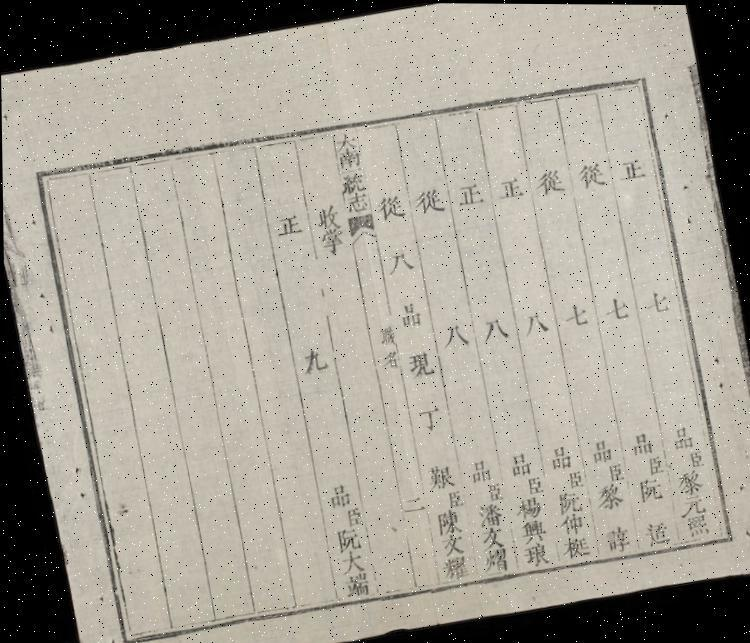c: (412, 183, 446, 215), (532, 164, 567, 195), (422, 459, 456, 490), (638, 514, 670, 546), (556, 531, 592, 559), (600, 521, 632, 552), (374, 191, 407, 221), (511, 492, 545, 521), (666, 420, 698, 450), (632, 472, 664, 502), (438, 318, 470, 348), (592, 479, 624, 509), (404, 348, 434, 380), (575, 158, 607, 188), (477, 314, 510, 343), (614, 152, 648, 180), (338, 569, 372, 597), (436, 552, 470, 580), (298, 344, 328, 375), (515, 516, 548, 544), (640, 284, 670, 314), (586, 434, 616, 464), (317, 226, 347, 256), (544, 441, 575, 470), (672, 466, 704, 494), (330, 524, 362, 552), (624, 427, 656, 455), (518, 538, 550, 566), (472, 499, 504, 527), (478, 544, 510, 572), (322, 480, 352, 509), (504, 448, 534, 477), (518, 308, 549, 336), (395, 297, 423, 328), (600, 293, 631, 321), (384, 248, 415, 276), (431, 506, 462, 534), (554, 509, 586, 536), (560, 300, 590, 328), (464, 455, 494, 483), (552, 487, 583, 514), (334, 548, 366, 574), (679, 510, 710, 536), (414, 404, 443, 431), (312, 202, 341, 229), (274, 212, 304, 238), (454, 180, 484, 206), (475, 524, 505, 550), (495, 173, 524, 199), (338, 168, 366, 194), (436, 531, 465, 556), (677, 490, 707, 514), (342, 190, 370, 213), (336, 146, 362, 170), (375, 322, 398, 346), (332, 130, 358, 150), (379, 347, 401, 370), (642, 452, 664, 474), (482, 480, 504, 502), (442, 486, 464, 508), (522, 472, 544, 494), (604, 458, 624, 481), (342, 504, 362, 526), (564, 466, 584, 488), (684, 446, 704, 467)
